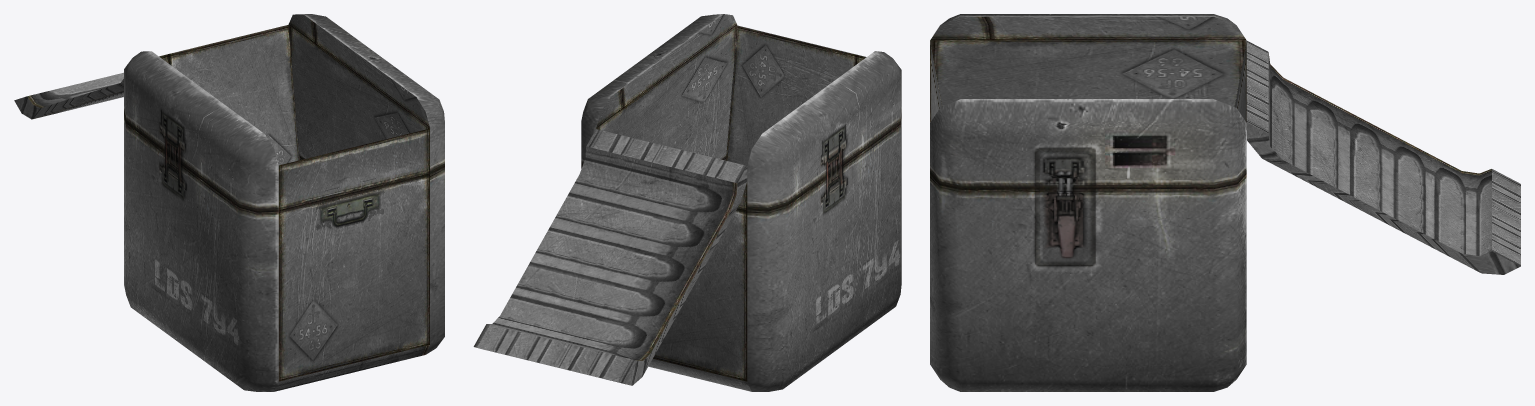
Rendered from Model_Crate_04_Open.fbx.
3 views of the same model, side by side, from view 1: azimuth 30°, elevation 25°; view 2: azimuth 150°, elevation 25°; view 3: azimuth 270°, elevation 25° (orthographic). The views are drawn at different scales.
Parts seen in each view (by area): view 1: Crate_04_Open0; view 2: Crate_04_Open0; view 3: Crate_04_Open0.
Part boxes in pixels (box(x1,y1,x2,y2)): Crate_04_Open0: box(14, 14, 444, 391); Crate_04_Open0: box(473, 14, 901, 391); Crate_04_Open0: box(930, 14, 1520, 391).
Bounding box in the file's own units: 100 × 120 × 224.
